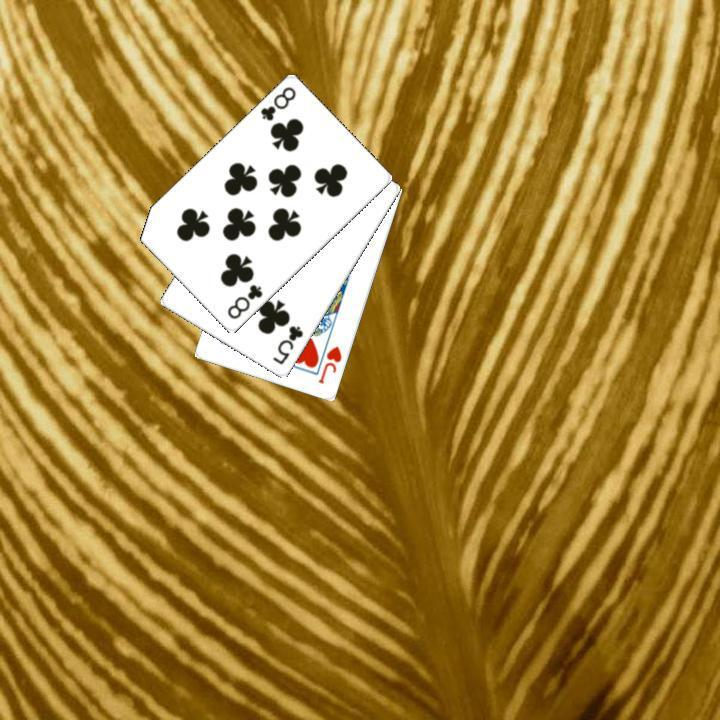5: (268, 322, 305, 367)
8: (223, 280, 265, 321), (256, 83, 298, 123)
J: (314, 342, 344, 386)
